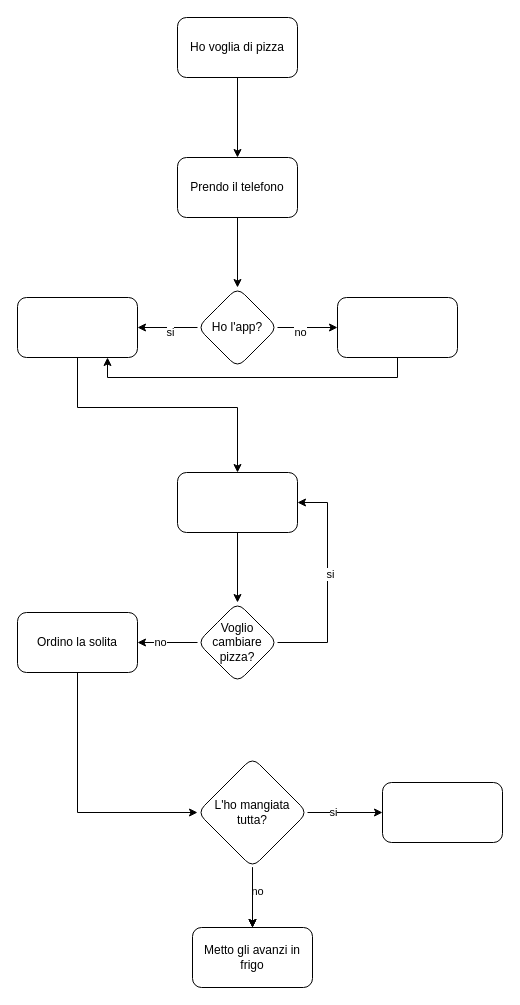
This 520x1005 diagram has some shape labels left out. The centre of each missing label's shape, as x and y in pixels:
"Apro l'app" belongs at (x=77, y=327).
"Butto il cartone" belongs at (x=442, y=812).
"Consulto il menù" belongs at (x=237, y=502).
"Scarico l'app" belongs at (x=397, y=327).
